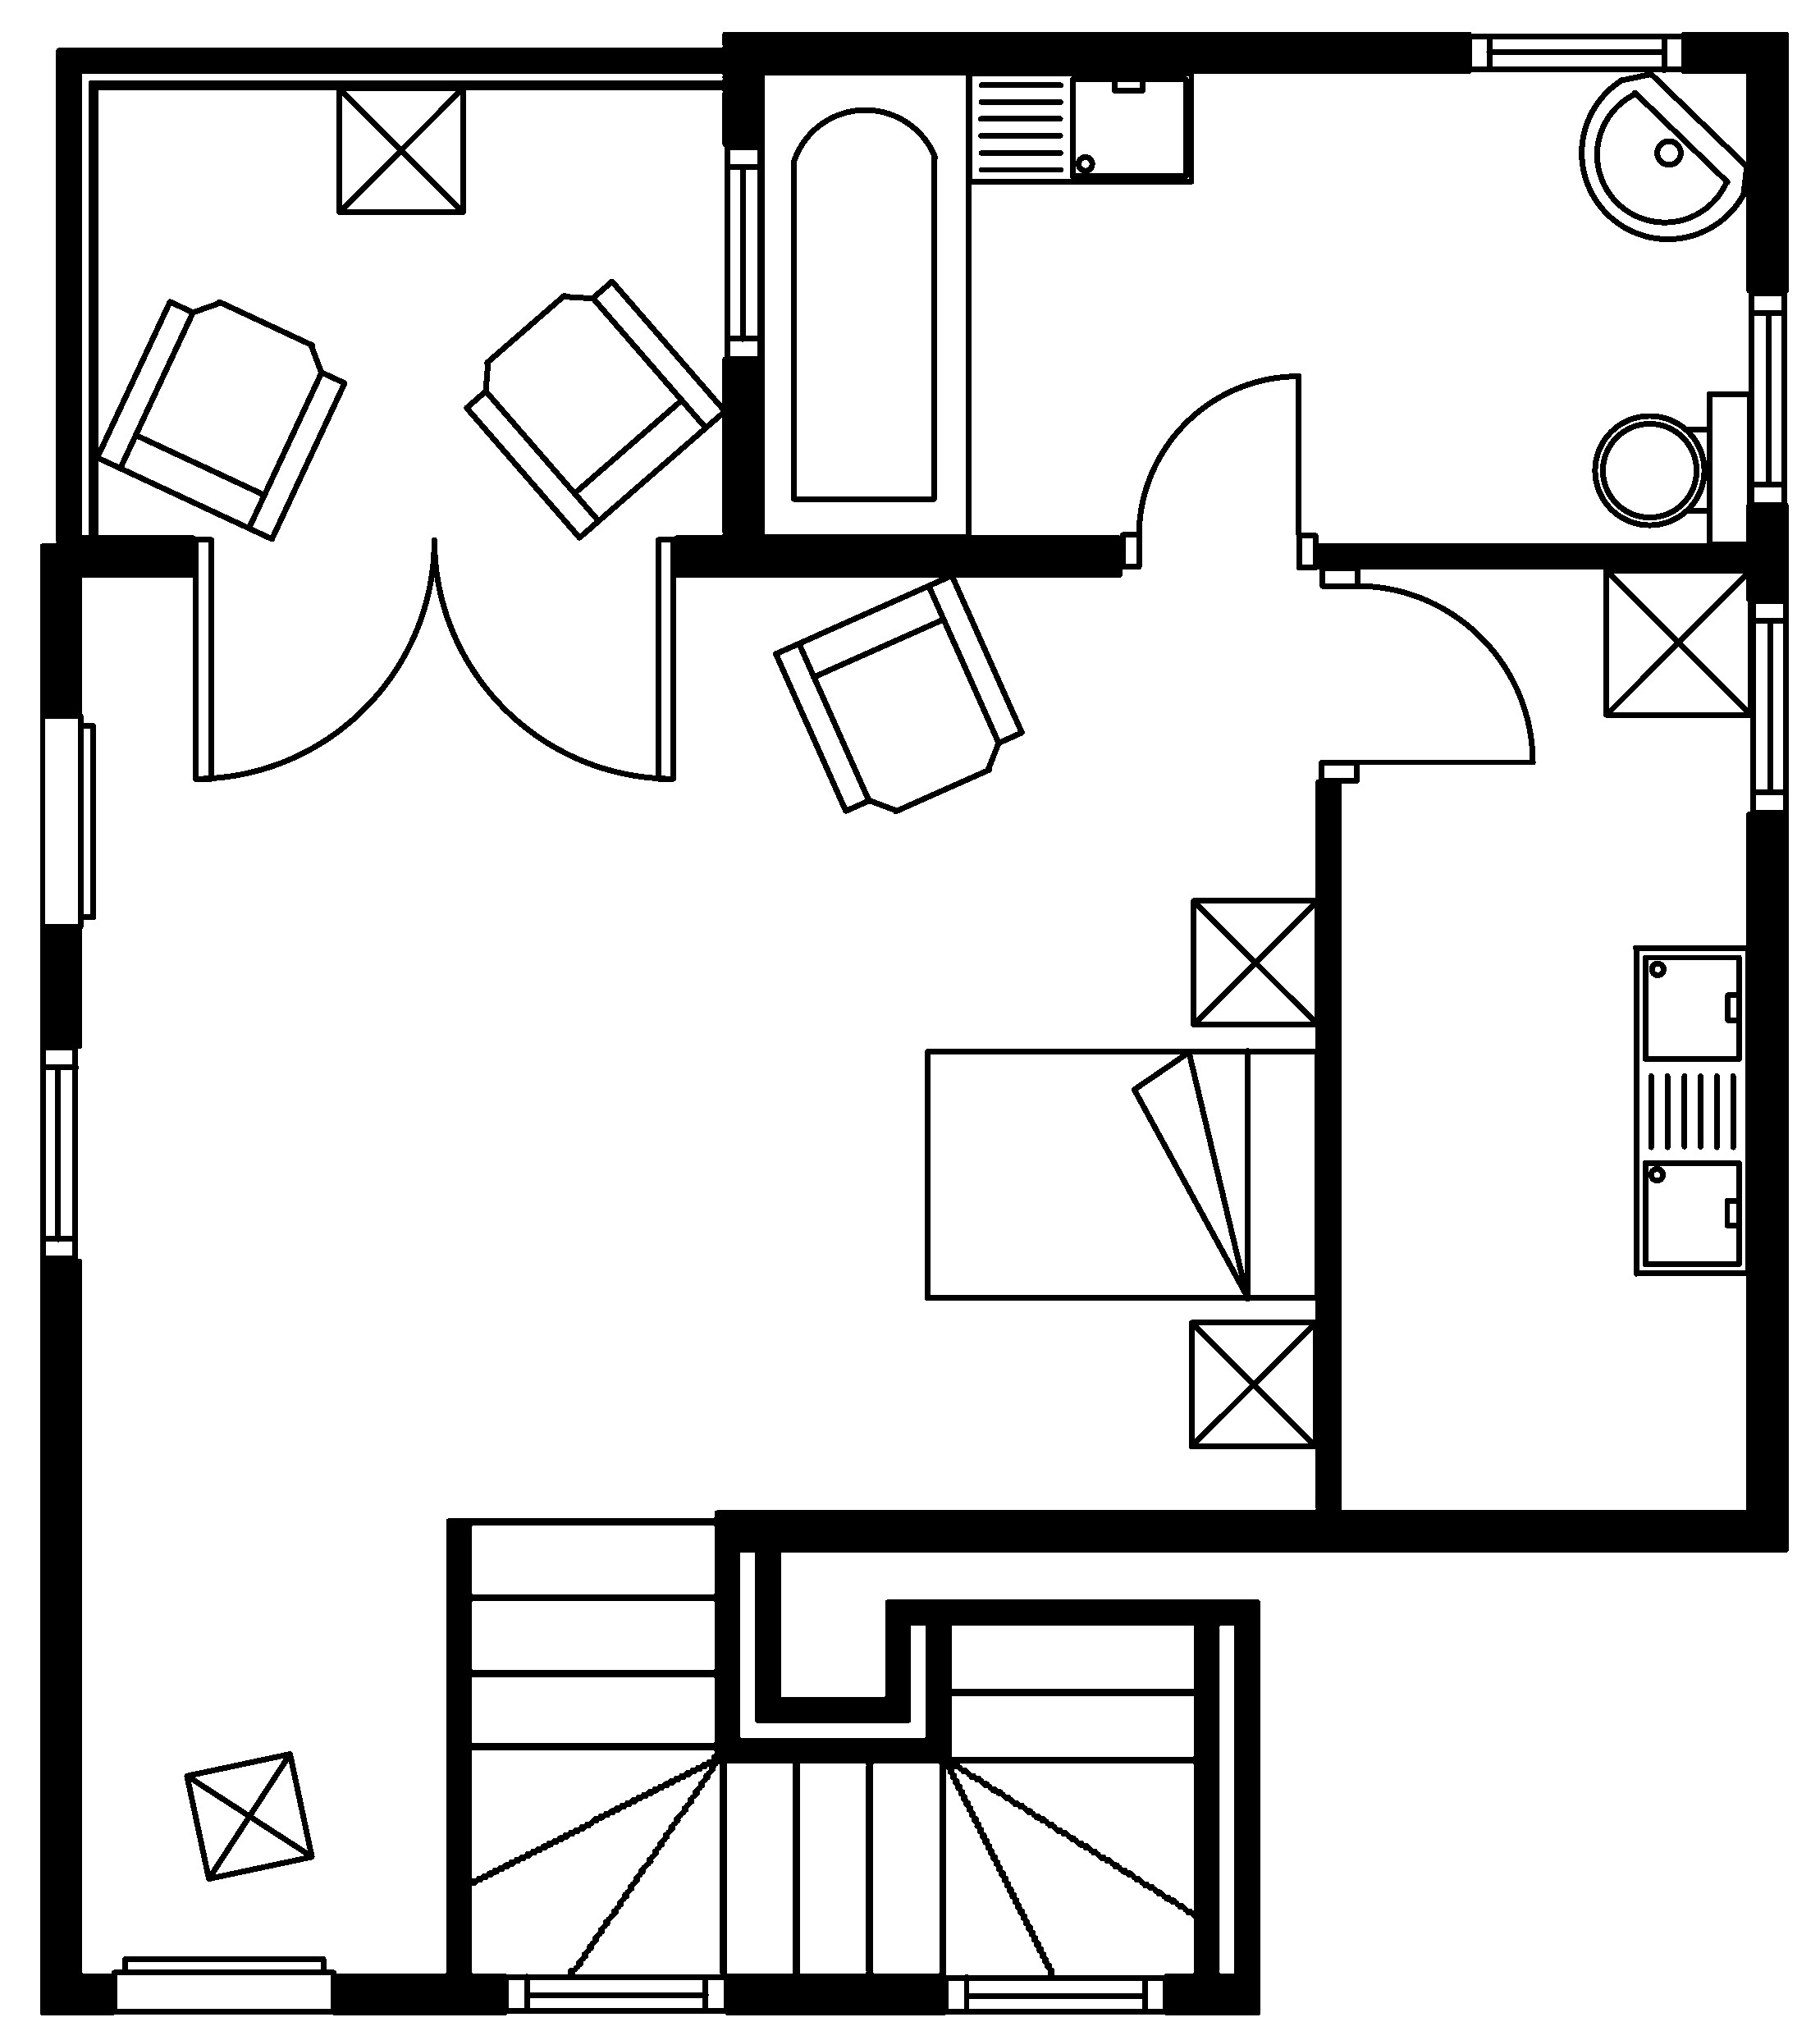armchair: (462, 276, 727, 541), (93, 297, 348, 543), (771, 571, 1024, 815)
bed: (922, 1047, 1321, 1302)
coffee_table: (1602, 566, 1753, 719), (1186, 1318, 1319, 1449), (1189, 896, 1321, 1028), (183, 1750, 314, 1882), (336, 84, 466, 214)
large_sink: (1592, 388, 1753, 548)
sink: (964, 69, 1195, 184)
small_sink: (1578, 70, 1750, 241)
tub: (757, 69, 971, 539)
twin_sink: (1630, 943, 1751, 1277)
